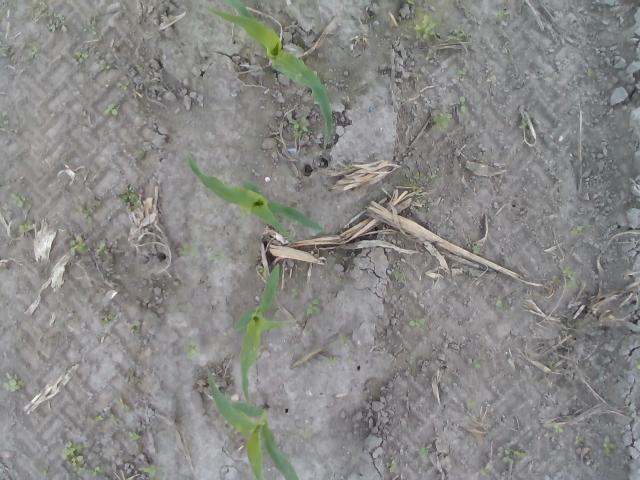Maize: (206, 0, 334, 148), (186, 155, 324, 237), (205, 369, 301, 480), (232, 262, 290, 410)
Weeds: (62, 438, 105, 478), (402, 8, 438, 42), (32, 6, 64, 33), (547, 266, 577, 294), (1, 372, 26, 394), (119, 189, 140, 212), (502, 447, 529, 464), (304, 295, 322, 319), (182, 336, 200, 360), (177, 238, 199, 256), (8, 191, 30, 209), (288, 118, 310, 136), (15, 216, 33, 234), (432, 111, 448, 131), (412, 171, 438, 183), (602, 434, 616, 456), (79, 19, 97, 36), (141, 462, 160, 478), (126, 318, 142, 336), (69, 239, 88, 254), (80, 206, 94, 226), (406, 317, 426, 331), (496, 296, 512, 312), (408, 184, 423, 200), (28, 47, 42, 64), (112, 399, 130, 412), (104, 103, 120, 117), (74, 48, 88, 64), (390, 270, 407, 282), (570, 225, 585, 238), (99, 311, 112, 325), (208, 252, 226, 262), (496, 8, 512, 18), (0, 111, 9, 128), (416, 447, 432, 456), (290, 286, 300, 300), (458, 95, 466, 112), (108, 414, 120, 425), (447, 31, 465, 38), (387, 461, 398, 472), (127, 431, 140, 440), (551, 424, 564, 433), (472, 244, 482, 255), (135, 148, 144, 160), (94, 414, 106, 423), (584, 68, 594, 78), (470, 358, 480, 368), (340, 334, 350, 344), (633, 358, 640, 370), (575, 434, 583, 444), (100, 63, 110, 71), (0, 48, 8, 58), (119, 82, 128, 90), (327, 356, 336, 364), (255, 265, 264, 273), (404, 0, 415, 5), (343, 164, 352, 170)
